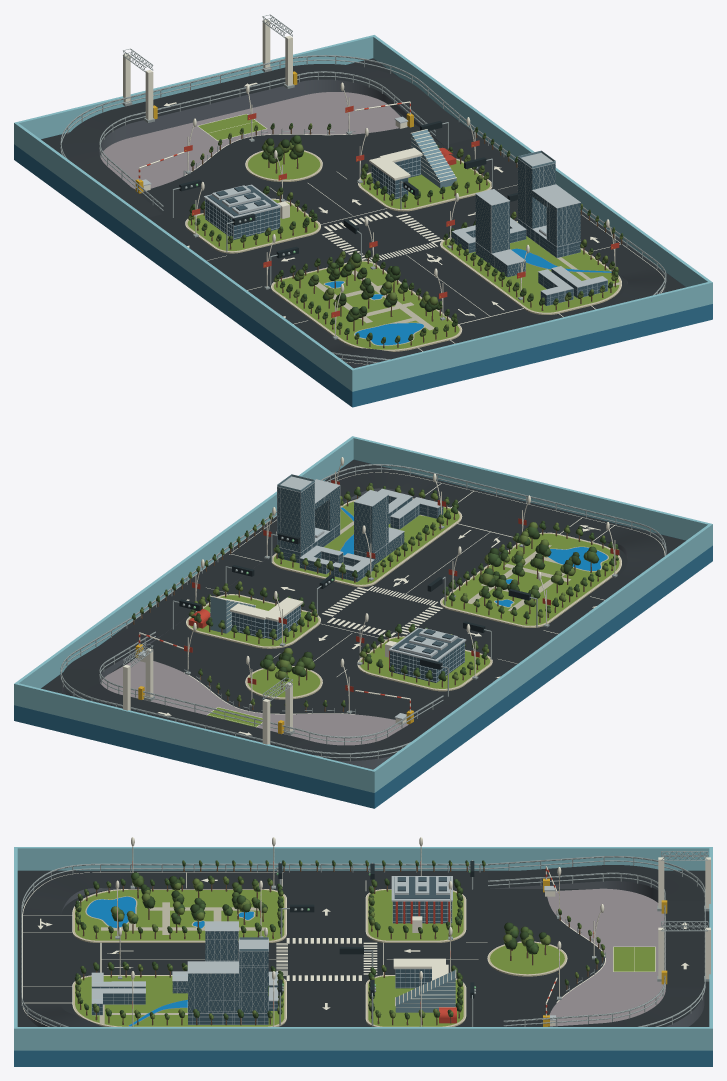
The model's file is dongfeng_sandbox.glb.
3 views of the same model, one above another, from view 1: azimuth 30°, elevation 25°; view 2: azimuth 150°, elevation 25°; view 3: azimuth 270°, elevation 25° (orthographic). The views are drawn at different scales.
Parts seen in each view (by area): view 1: ground_asphalt, boundary_acrylic, elevated_road_asphalt, landscape_grass, boundary_blue_board, yard_grey_yard, buildings_glass, rails_steel, elevated_road_deck_side, buildings_roof, street_furniture_white, markings_white (+16 smaller); view 2: ground_asphalt, boundary_acrylic, elevated_road_asphalt, landscape_grass, boundary_blue_board, buildings_glass, yard_grey_yard, rails_steel, buildings_roof, markings_white, street_furniture_white, landscape_kerb (+15 smaller); view 3: ground_asphalt, boundary_acrylic, elevated_road_asphalt, landscape_grass, boundary_blue_board, yard_grey_yard, buildings_glass, rails_steel, markings_white, buildings_roof, street_furniture_white, landscape_kerb (+16 smaller).
Part boxes in pixels (x1,y1,x2,y2): ground_asphalt: [41, 58, 685, 353]; boundary_acrylic: [14, 35, 712, 391]; elevated_road_asphalt: [62, 64, 664, 364]; landscape_grass: [187, 150, 619, 349]; boundary_blue_board: [14, 58, 712, 407]; yard_grey_yard: [100, 92, 407, 189]; buildings_glass: [205, 156, 607, 305]; rails_steel: [60, 55, 666, 364]; elevated_road_deck_side: [99, 79, 664, 368]; buildings_roof: [203, 152, 607, 295]; street_furniture_white: [123, 19, 615, 337]; markings_white: [164, 82, 664, 364]; ground_asphalt: [41, 459, 685, 724]; boundary_acrylic: [14, 436, 712, 792]; elevated_road_asphalt: [62, 472, 664, 760]; landscape_grass: [190, 501, 619, 697]; boundary_blue_board: [14, 460, 712, 808]; buildings_glass: [232, 483, 464, 682]; yard_grey_yard: [100, 658, 408, 745]; rails_steel: [60, 464, 666, 761]; buildings_roof: [230, 476, 466, 661]; markings_white: [158, 472, 664, 735]; street_furniture_white: [123, 457, 615, 744]; landscape_kerb: [186, 498, 621, 699]; ground_asphalt: [17, 870, 709, 1026]; boundary_acrylic: [14, 847, 712, 1050]; elevated_road_asphalt: [23, 865, 704, 1026]; landscape_grass: [75, 890, 564, 1026]; boundary_blue_board: [14, 1050, 712, 1066]; yard_grey_yard: [547, 888, 665, 1026]; buildings_glass: [92, 901, 451, 1024]; rails_steel: [21, 856, 705, 1026]; markings_white: [22, 872, 688, 1026]; buildings_roof: [91, 876, 452, 1013]; street_furniture_white: [115, 837, 710, 1026]; landscape_kerb: [73, 889, 566, 1026].
Bounding box in the file's own units: 3.36 × 0.8068 × 5.46.
